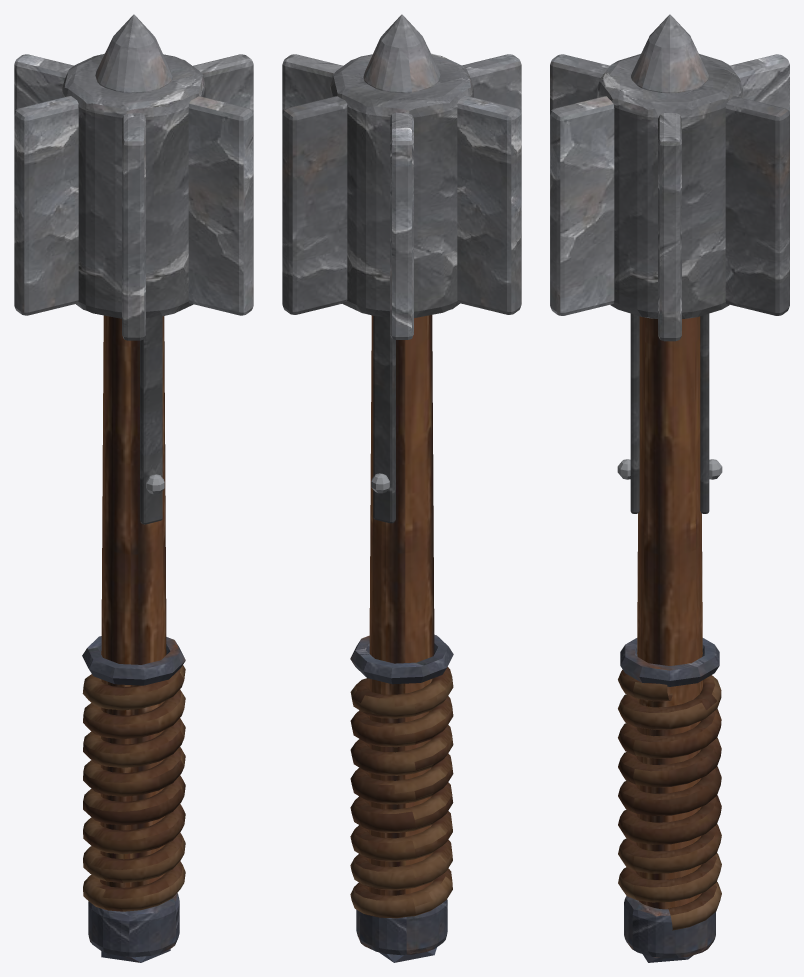
File: mace_silver.glb
The picture shows the model from 3 angles, left to right: view 1: azimuth 30°, elevation 25°; view 2: azimuth 150°, elevation 25°; view 3: azimuth 270°, elevation 25°; orthographic projection.
Parts seen in each view (by area): view 1: model; view 2: model; view 3: model.
Part boxes in pixels (<box>): model: <box>14,14,253,962</box>; model: <box>282,14,521,962</box>; model: <box>550,14,789,962</box>.
Size of the model in its own units: 0.18 by 0.6971 by 0.1607.
Materials: 8 (7 with a texture image).
